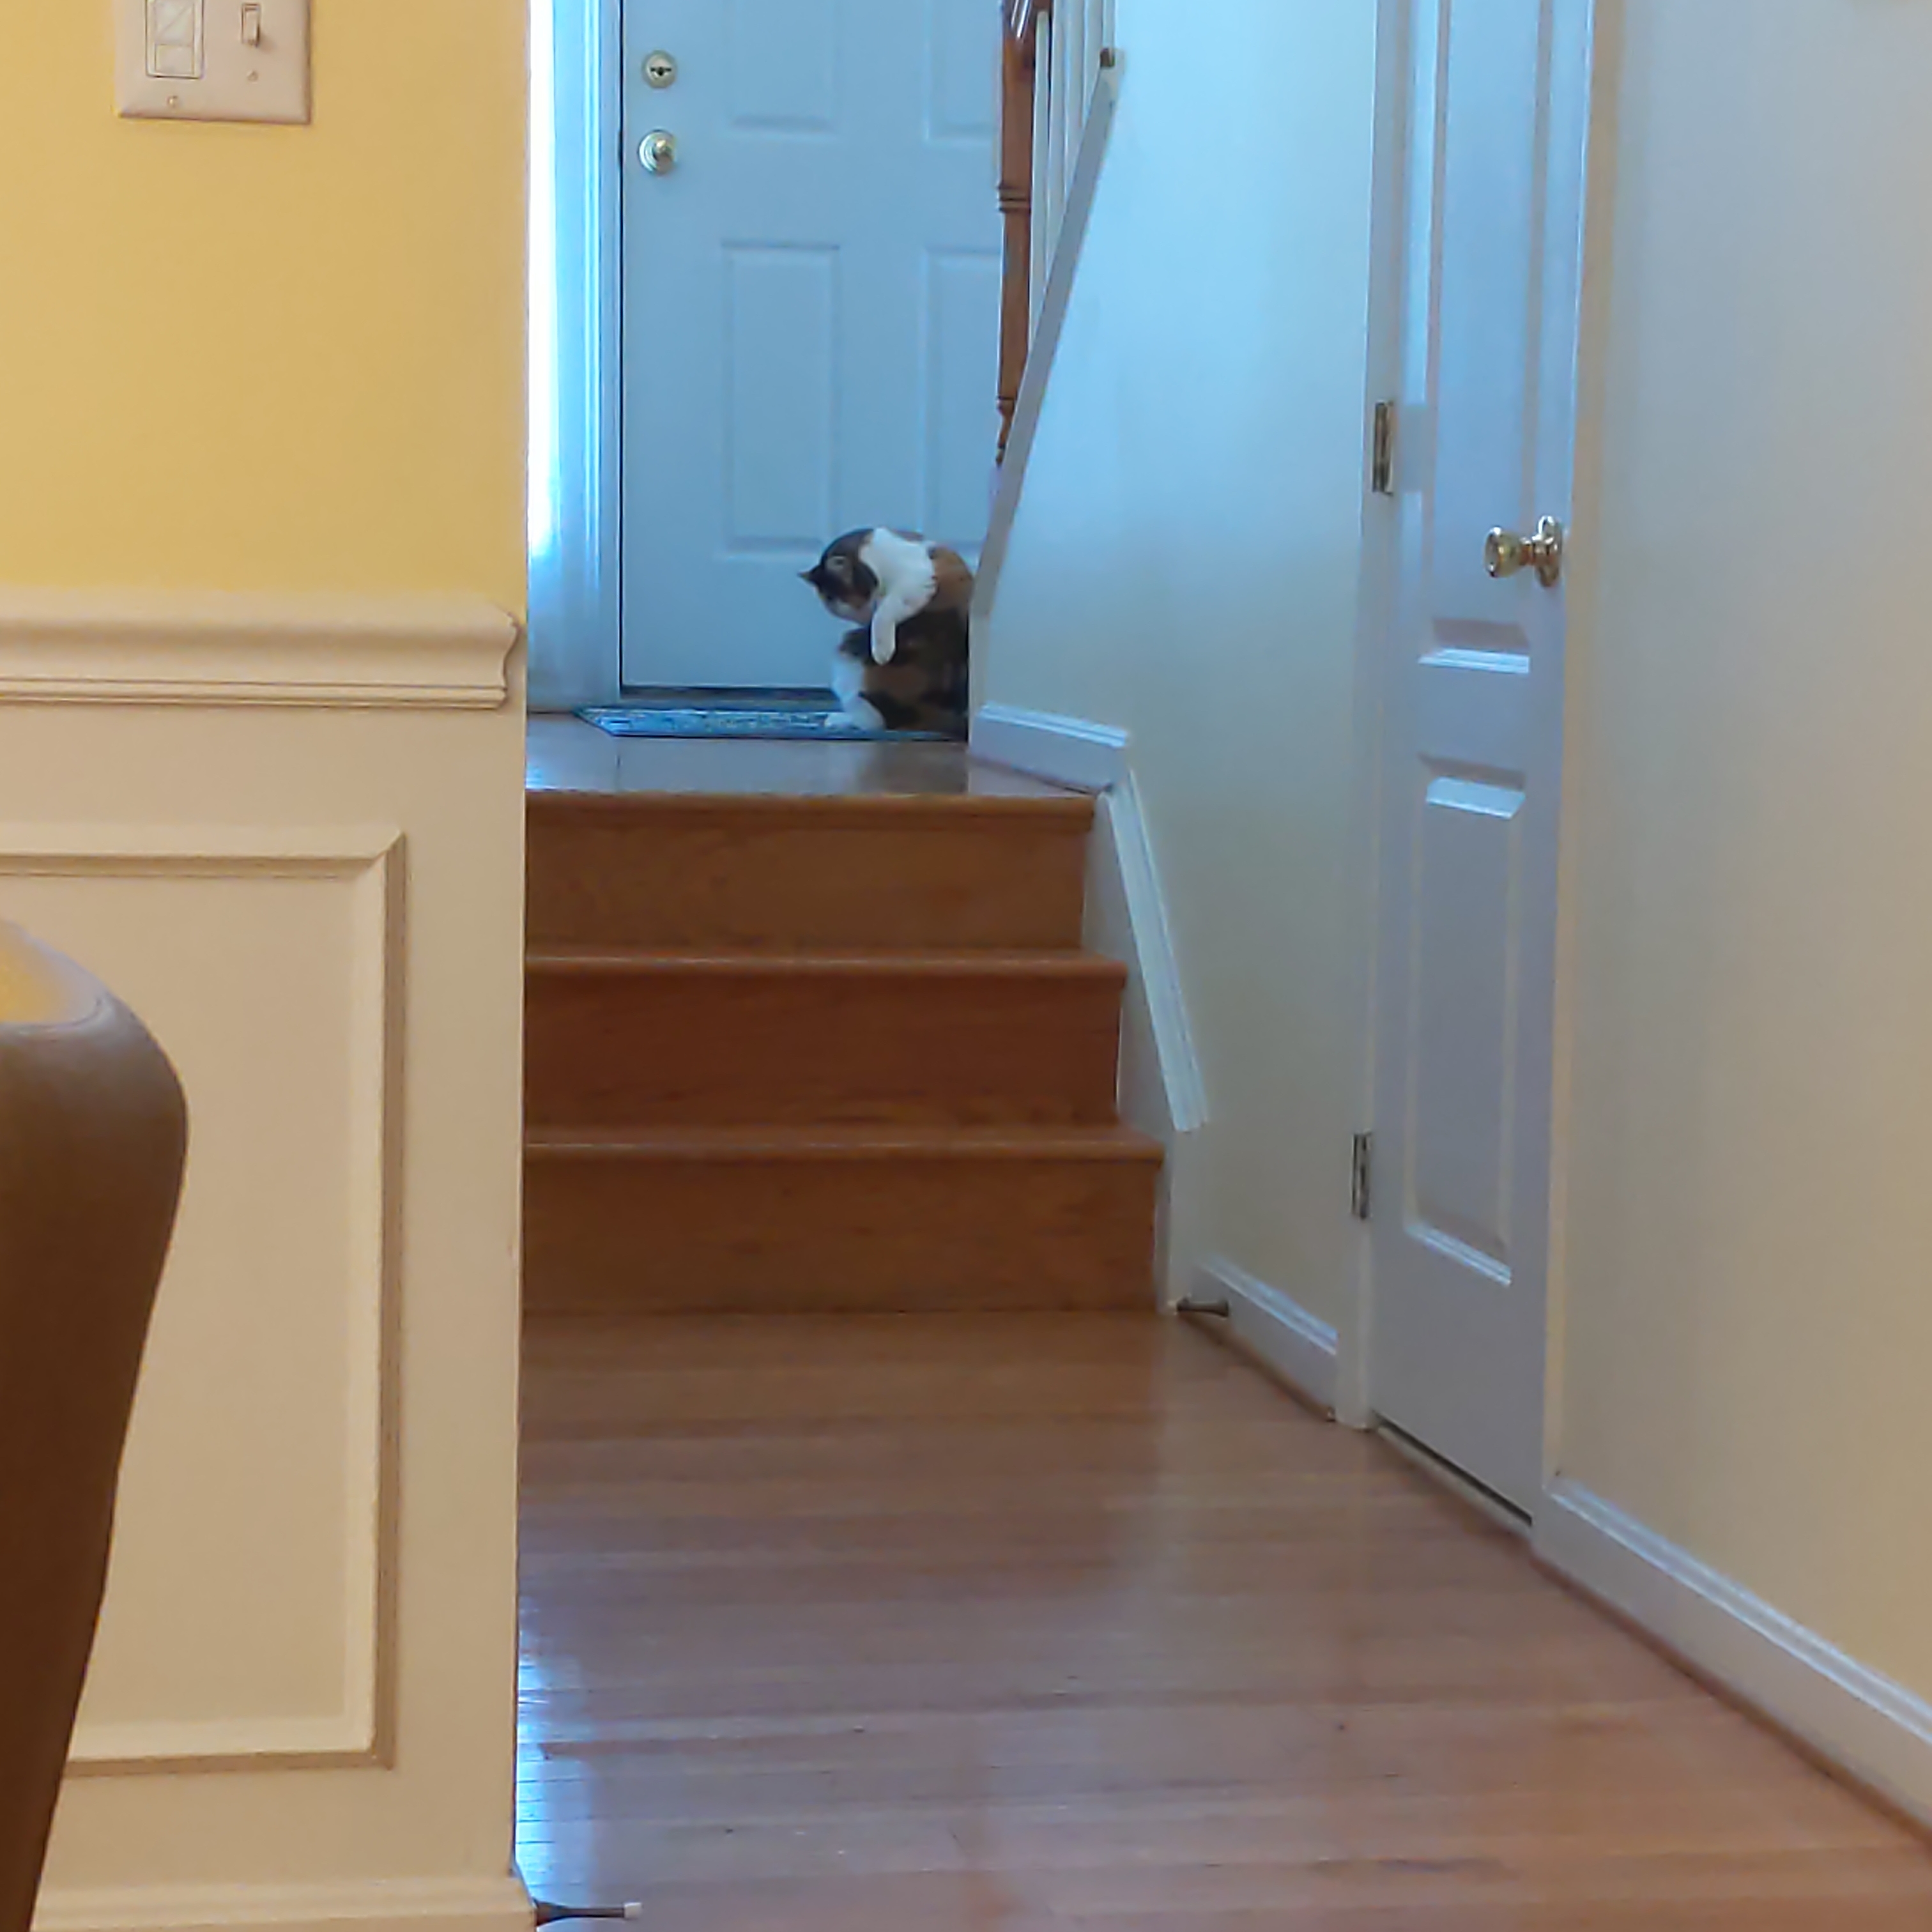Calico: (798, 529, 975, 731)
